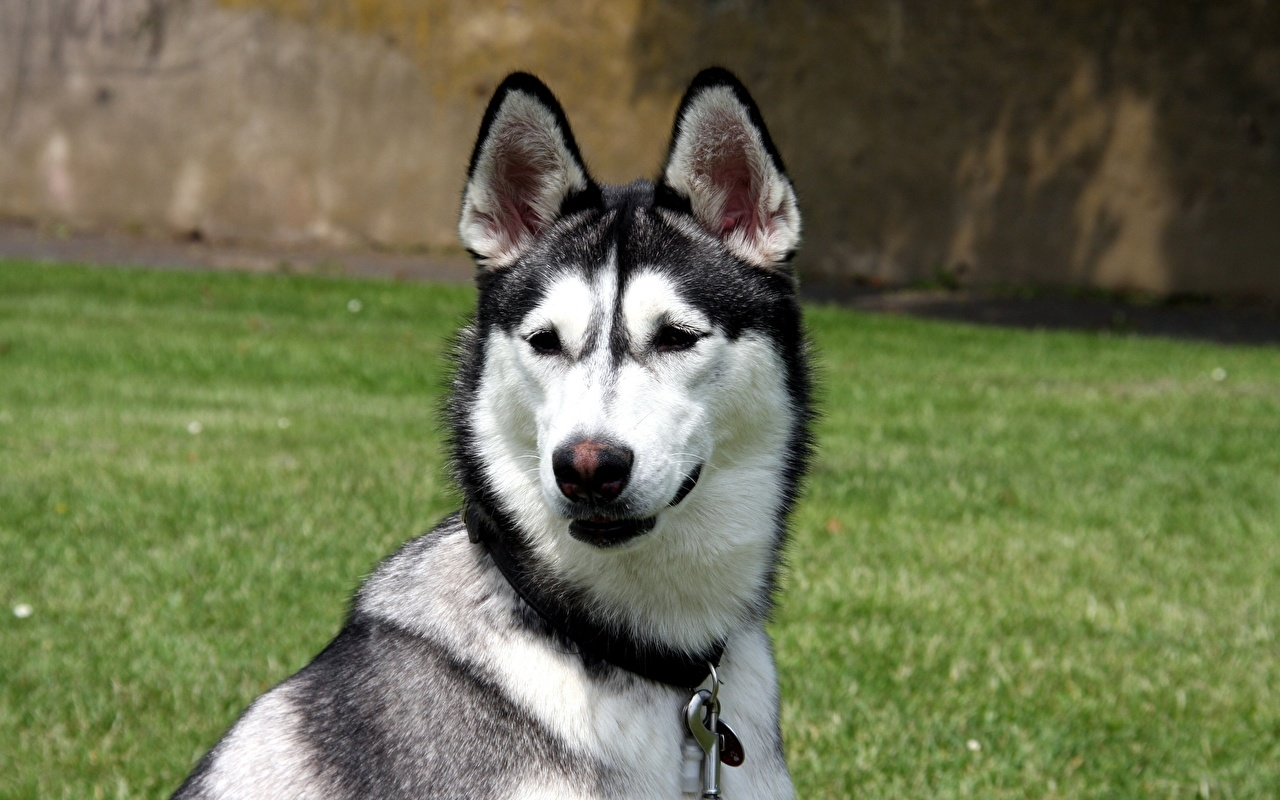husky: (389, 37, 859, 697)
